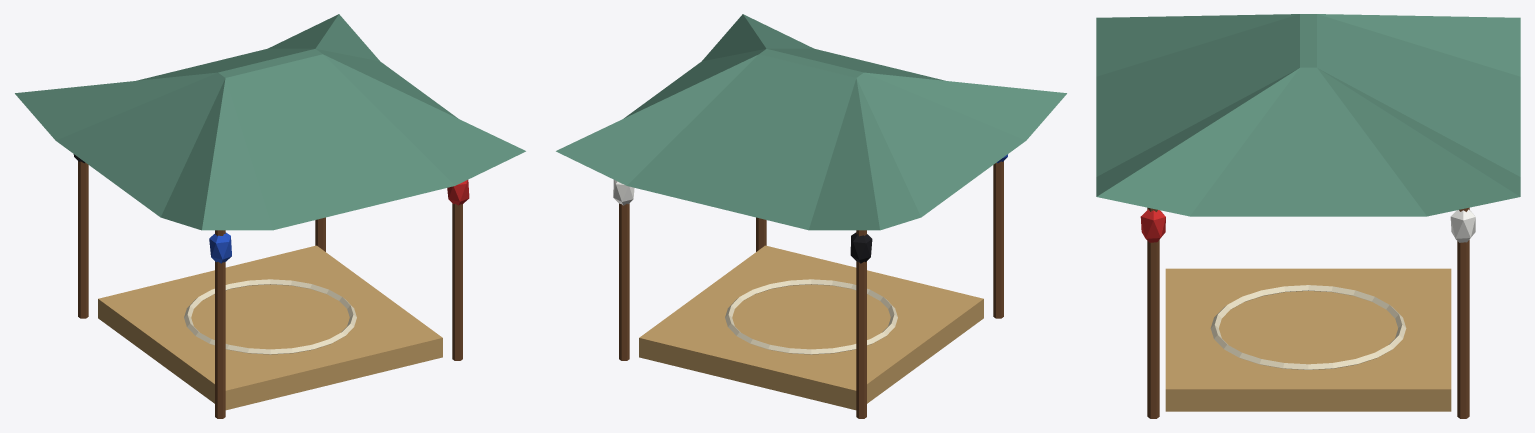
File: dohyo.glb
3 renders of one model, left to right at view 1: azimuth 30°, elevation 25°; view 2: azimuth 150°, elevation 25°; view 3: azimuth 270°, elevation 25°, orthographic. The views are drawn at different scales.
Visible parts, largest first — view 1: dohyo; view 2: dohyo; view 3: dohyo.
Part boxes in pixels (left/top/right/bottom): dohyo: left=15, top=14, right=525, bottom=418; dohyo: left=556, top=14, right=1066, bottom=418; dohyo: left=1096, top=14, right=1520, bottom=418.
Size of the model in its own units: 10.4 by 8.4 by 10.4.
